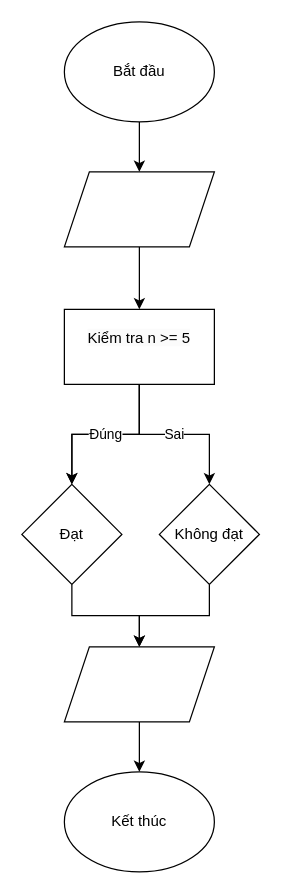
Some shapes in this 281 by 894 pixel diagram are drawn without their labels. Each missing label, with the box of its shape:
In ra kết quả: (63, 646, 214, 722)
Nhập điểm số n: (63, 171, 214, 247)
